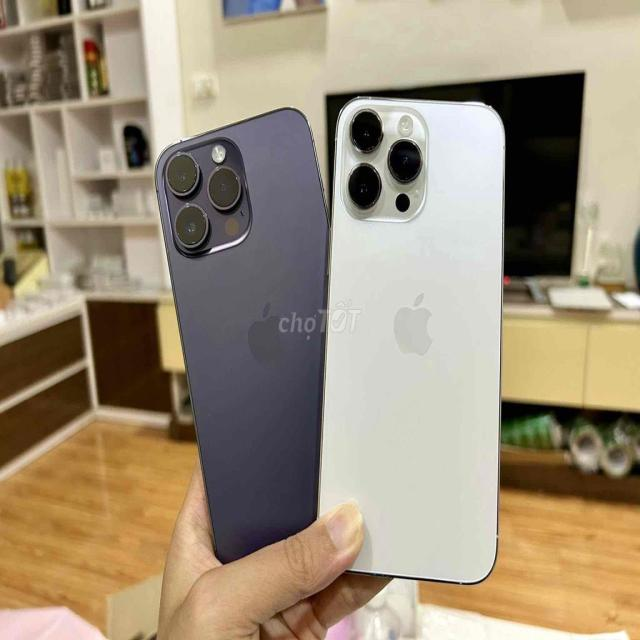gen_14: (310, 92, 513, 585)
